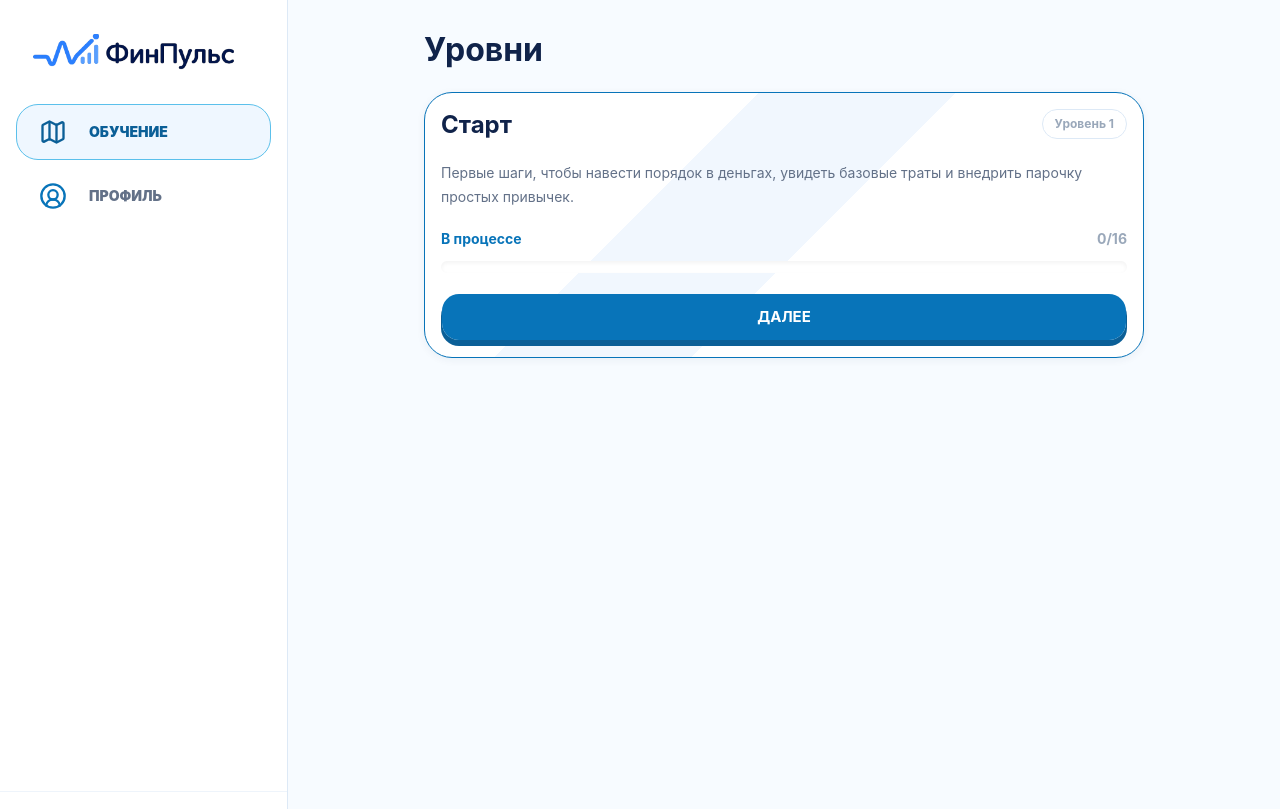
Test: App › applies route transition attributes for learning and profile navigation
Expected: the heading "Уровни" is shown, [424,30,543,69]
Click the link "Далее". click: coordinates (784, 317)
box: [441,293,1127,341]
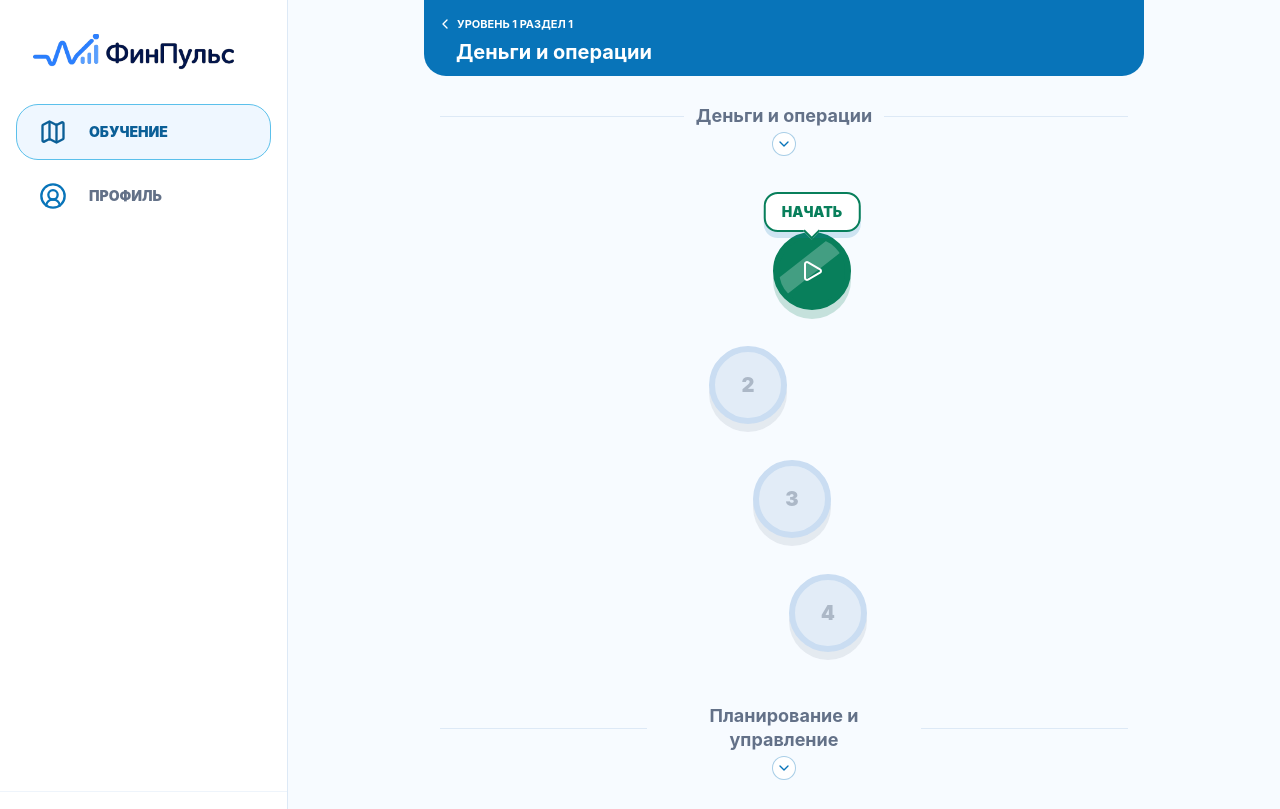
Now the header with test id "compact-path-header" is shown, box [424,0,1144,76]
Click the link "Уровень 1 раздел 1". click: coordinates (505, 24)
box: [437,16,573,32]
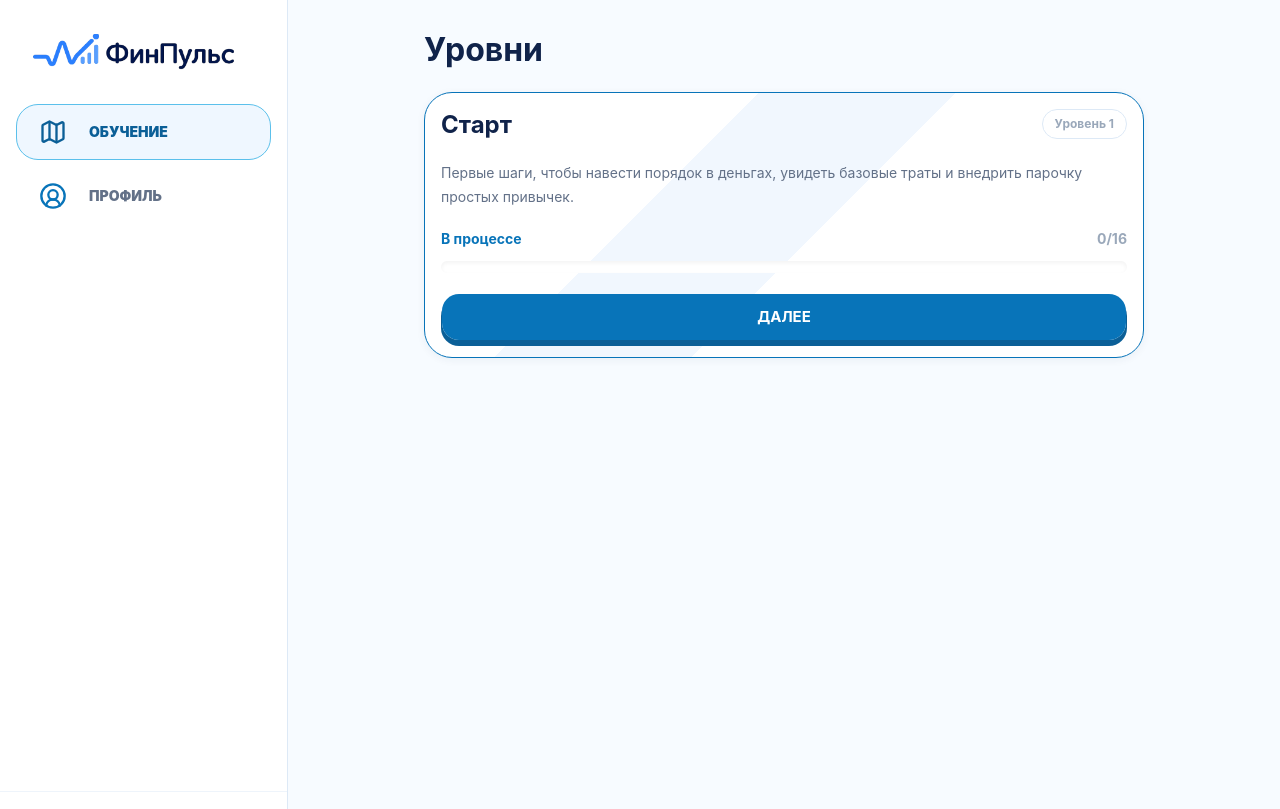
Now the heading "Уровни" is shown, box [424,30,543,69]
Click the link "Профиль". click: coordinates (101, 196)
box: [39,182,162,210]
(page scrolled)
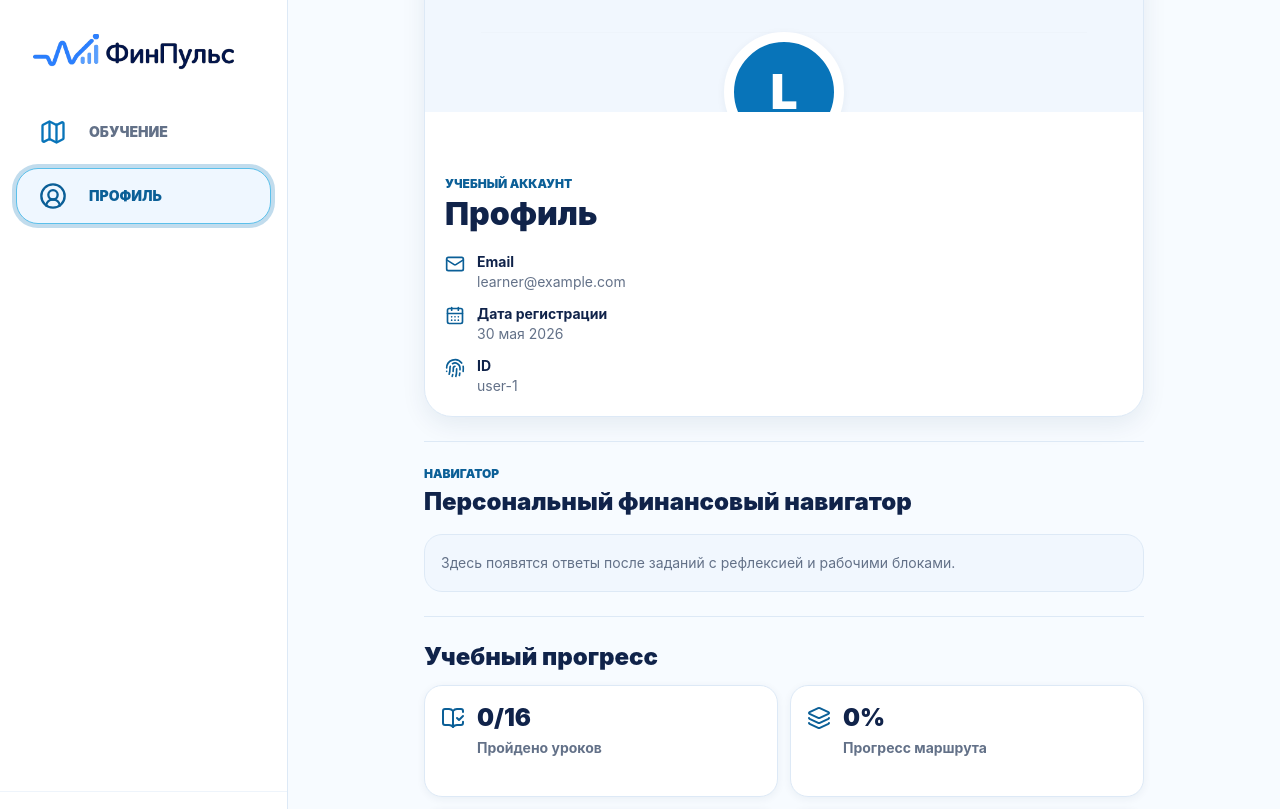
Now the heading "Профиль" is shown, box [445,194,598,233]
